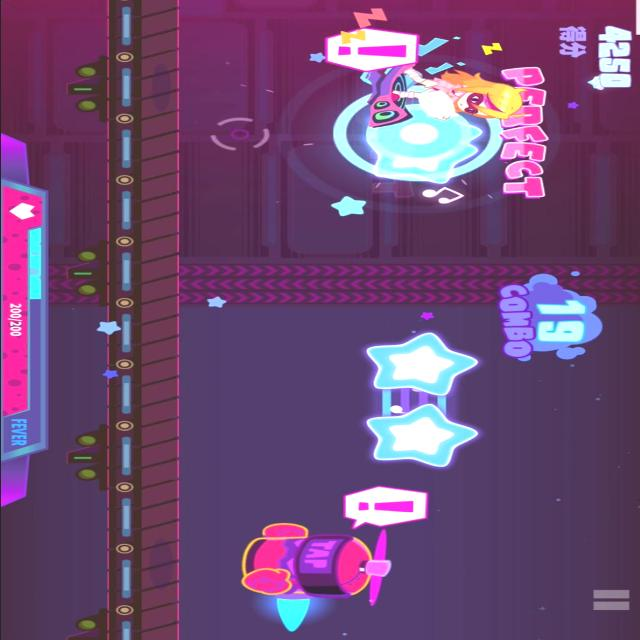hold: (368, 329, 482, 469), (361, 116, 479, 186)
tapboss: (241, 528, 396, 636)
